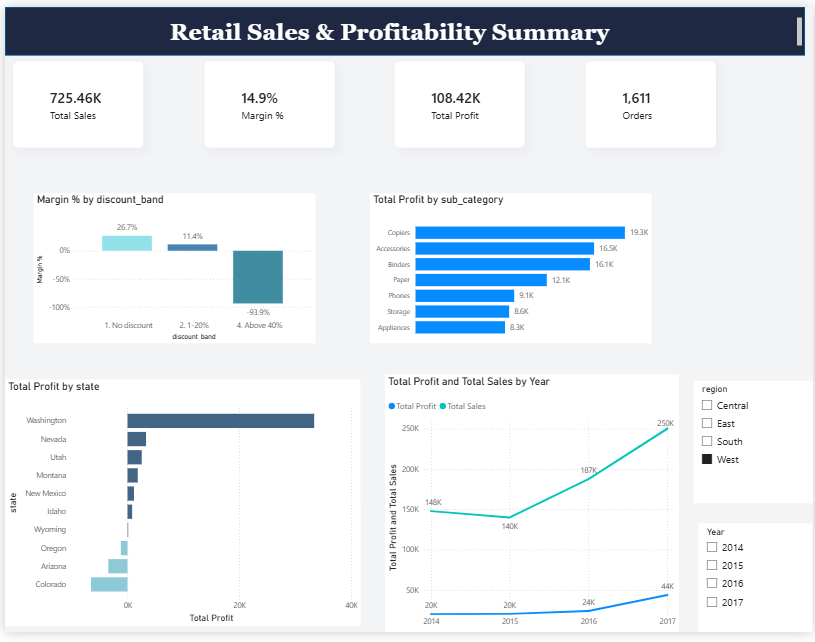

This screenshot's page, from the dashboard's own definition file:
{"tool":"powerbi","page":{"name":"Dashboard","canvas":[1292,1000],"ordinal":1},"visuals":[{"type":"shape","box":[0,0,1280,77.5],"z":0},{"type":"textbox","box":[0,11.2,1280,55],"z":1000},{"type":"cardVisual","fields":{"Data":["orders.Total Sales"]},"box":[11.2,86.2,210,140],"z":2000},{"type":"cardVisual","fields":{"Data":["orders.Total Profit"]},"box":[622.9,86.2,210,140],"z":3000},{"type":"cardVisual","fields":{"Data":["orders.Orders"]},"box":[928.8,86.2,210,140],"z":4000},{"type":"cardVisual","fields":{"Data":["orders.Margin %"]},"box":[317.1,86.2,210,140],"z":5000},{"type":"clusteredColumnChart","fields":{"Category":["orders.discount_band"],"Y":["orders.Margin %"]},"box":[46,298,450,240],"z":6000},{"type":"clusteredBarChart","fields":{"Y":["orders.Total Profit"],"Category":["orders.sub_category"]},"box":[584,298,450,240],"z":7000},{"type":"clusteredBarChart","fields":{"Category":["orders.state"],"Y":["orders.Total Profit"]},"box":[0,596,568.9,394.1],"z":8000},{"type":"lineChart","fields":{"Category":["orders.order_date.Variation.Date Hierarchy.Year","orders.order_date.Variation.Date Hierarchy.Quarter","orders.order_date.Variation.Date Hierarchy.Month","orders.order_date.Variation.Date Hierarchy.Day"],"Y":["orders.Total Profit","orders.Total Sales"]},"box":[607.1,587.1,470,413.3],"z":9000},{"type":"slicer","fields":{"Values":["orders.region"]},"box":[1101.4,598.6,190,195.7],"z":10000},{"type":"slicer","fields":{"Values":["orders.Year"]},"box":[1110,825.7,181.5,174],"z":11000}]}

Visuals, with their boxes in screenshot pixels (x1, y1, x2, y2), scaled from the page's 1292x1000 canvas onto the 815x642 screenshot:
shape: locate(0, 0, 807, 50)
textbox: locate(0, 7, 807, 43)
cardVisual - orders.Total Sales: locate(7, 55, 140, 145)
cardVisual - orders.Total Profit: locate(393, 55, 525, 145)
cardVisual - orders.Orders: locate(586, 55, 718, 145)
cardVisual - orders.Margin %: locate(200, 55, 332, 145)
clusteredColumnChart - orders.discount_band x orders.Margin %: locate(29, 191, 313, 345)
clusteredBarChart - orders.Total Profit x orders.sub_category: locate(368, 191, 652, 345)
clusteredBarChart - orders.state x orders.Total Profit: locate(0, 383, 359, 636)
lineChart - orders.order_date.Variation.Date Hierarchy.Year x orders.order_date.Variation.Date Hierarchy.Quarter: locate(383, 377, 679, 641)
slicer - orders.region: locate(695, 384, 814, 510)
slicer - orders.Year: locate(700, 530, 814, 641)
